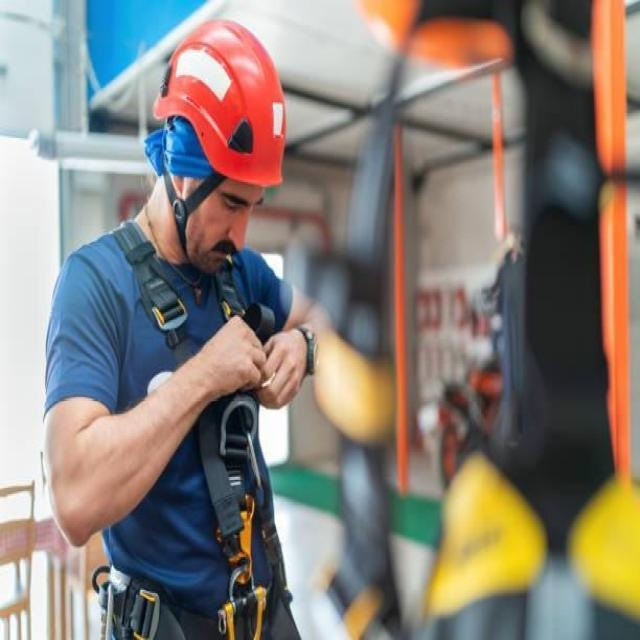Arnes_seguridad: (98, 216, 289, 636)
